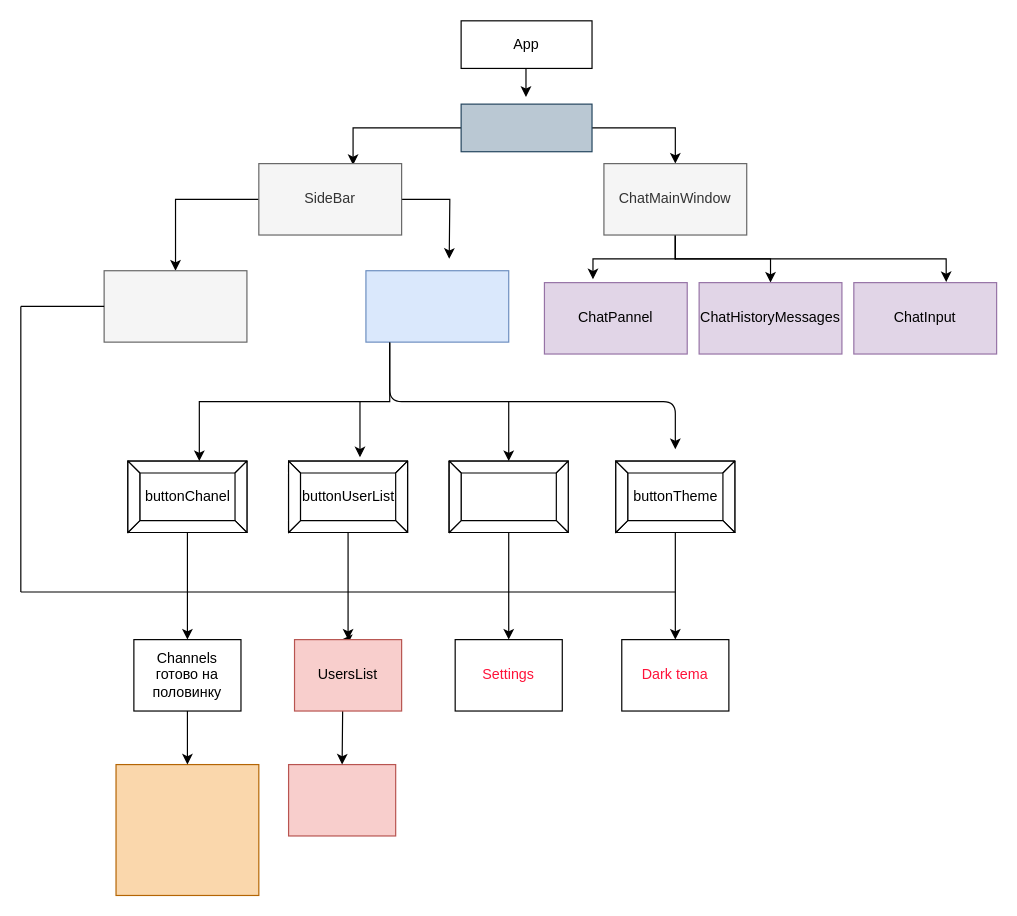
Some shapes in this 1017 by 916 pixel diagram are drawn without their labels. The box of each missing label's shape, as (x1, y1, x2, y2) in pixels:
buttonSettings: (448, 460, 568, 533)
Chat: (460, 103, 592, 152)
SideBarNavigate: (365, 270, 509, 342)
SideBarView: (103, 270, 247, 342)
UserDataCard: (287, 763, 396, 836)
СhatPreview рендер компоненты которая хранит предварительную информацию о чате: (115, 763, 259, 895)
